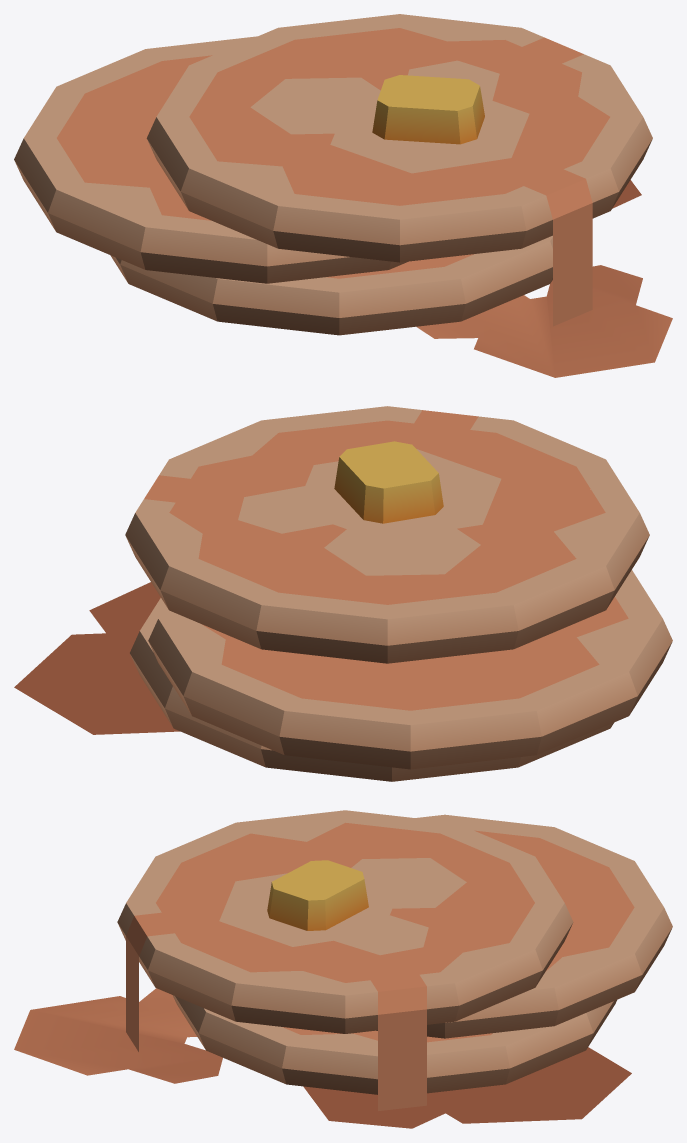
File: pancakes.glb
3 views of the same model, one above another, from view 1: azimuth 30°, elevation 25°; view 2: azimuth 150°, elevation 25°; view 3: azimuth 270°, elevation 25° (orthographic). The views are drawn at different scales.
Visible parts, largest first — view 1: geometry_0; view 2: geometry_0; view 3: geometry_0.
Boxes of the visible parts, <box> form: geometry_0: <box>14,14,672,377</box>; geometry_0: <box>14,406,672,781</box>; geometry_0: <box>14,810,672,1128</box>.
Size of the model in its own units: 0.9247 by 0.2582 by 1.07.
